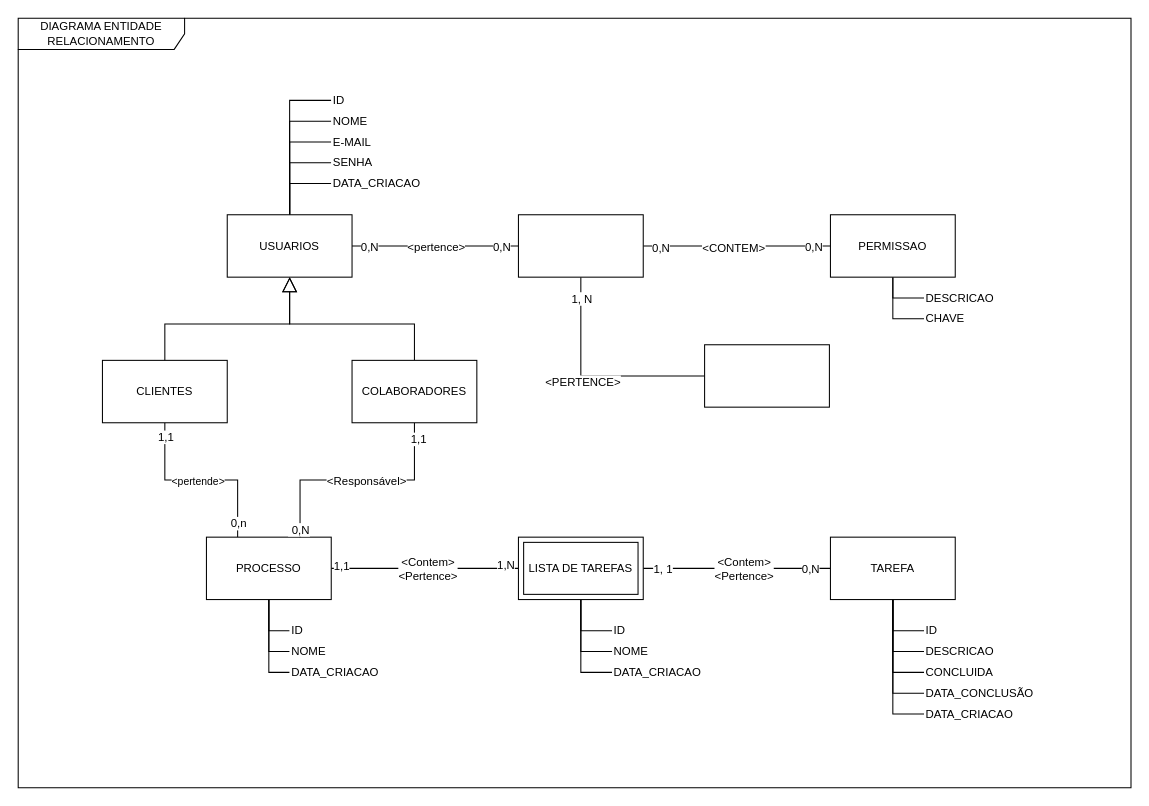
This 1149x806 diagram has some shape labels left out. Here are the shapes that lost their labels. From the top down, the box of each, then its label:
(517, 214, 643, 277): PEFIL
(704, 344, 829, 407): TOKENS
